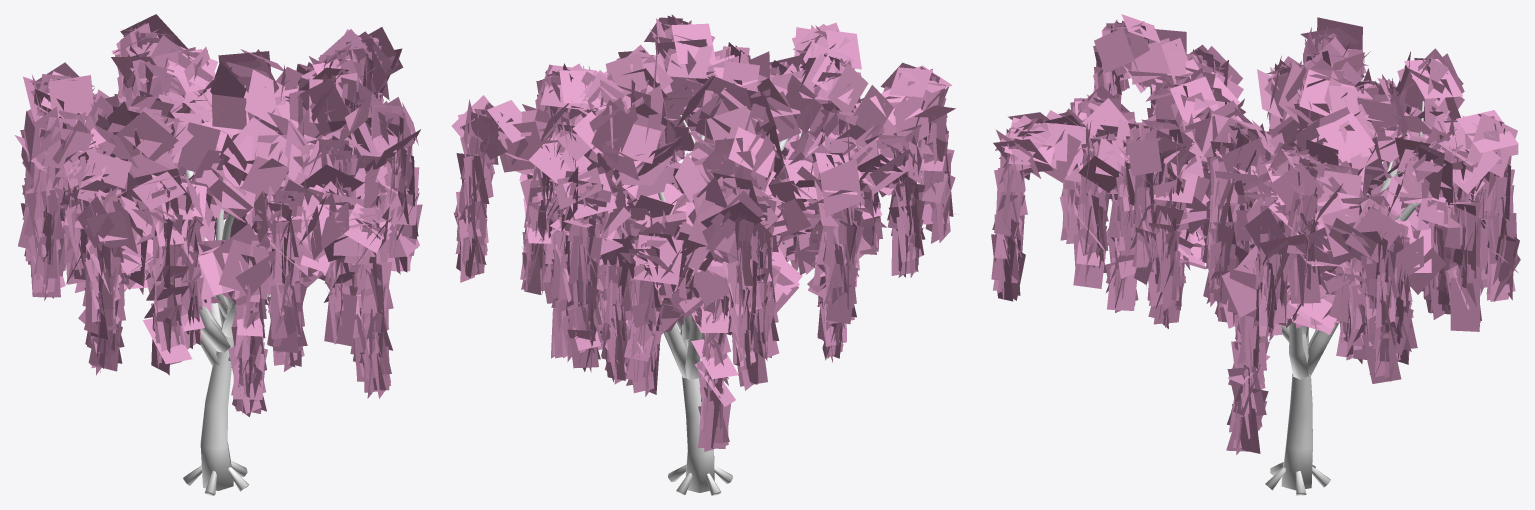
Rendered from SM_Sakura_Weeping_LOD1.fbx.
The picture shows the model from 3 angles, left to right: view 1: azimuth 30°, elevation 25°; view 2: azimuth 150°, elevation 25°; view 3: azimuth 270°, elevation 25°; orthographic projection. The views are drawn at different scales.
Visible parts, largest first — view 1: SM_Sakura_Weeping_LOD1; view 2: SM_Sakura_Weeping_LOD1; view 3: SM_Sakura_Weeping_LOD1.
Part boxes in pixels (x1,y1,x2,y2): SM_Sakura_Weeping_LOD1: [14, 14, 422, 495]; SM_Sakura_Weeping_LOD1: [451, 14, 955, 495]; SM_Sakura_Weeping_LOD1: [991, 14, 1520, 495].
Size of what is drawn, in the model's own units: 7.58 by 8.81 by 7.46.
